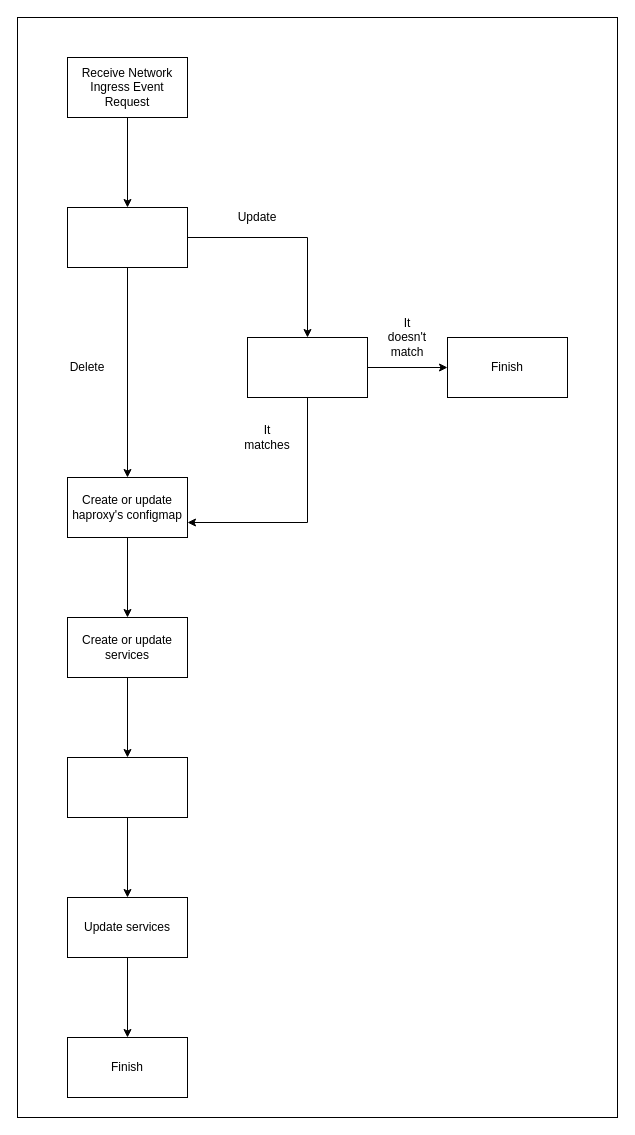
Some shapes in this 635 by 1135 pixel diagram are drawn without their labels. Each missing label, with the centre of its shape:
Check if class matches: (x=307, y=367)
Check if is a update event or a delete event: (x=127, y=237)
Update haproxy deployment: (x=127, y=787)
